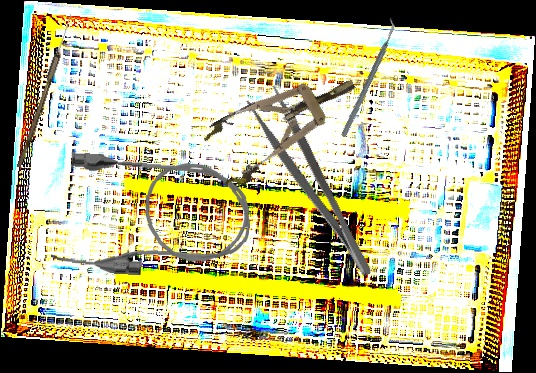Cannula: (50, 151, 254, 283)
Chopper: (305, 16, 431, 139)
Dressing Forceps: (244, 83, 377, 288)
Speculum: (196, 54, 371, 193)
Surgical Spoon: (16, 13, 75, 169)
